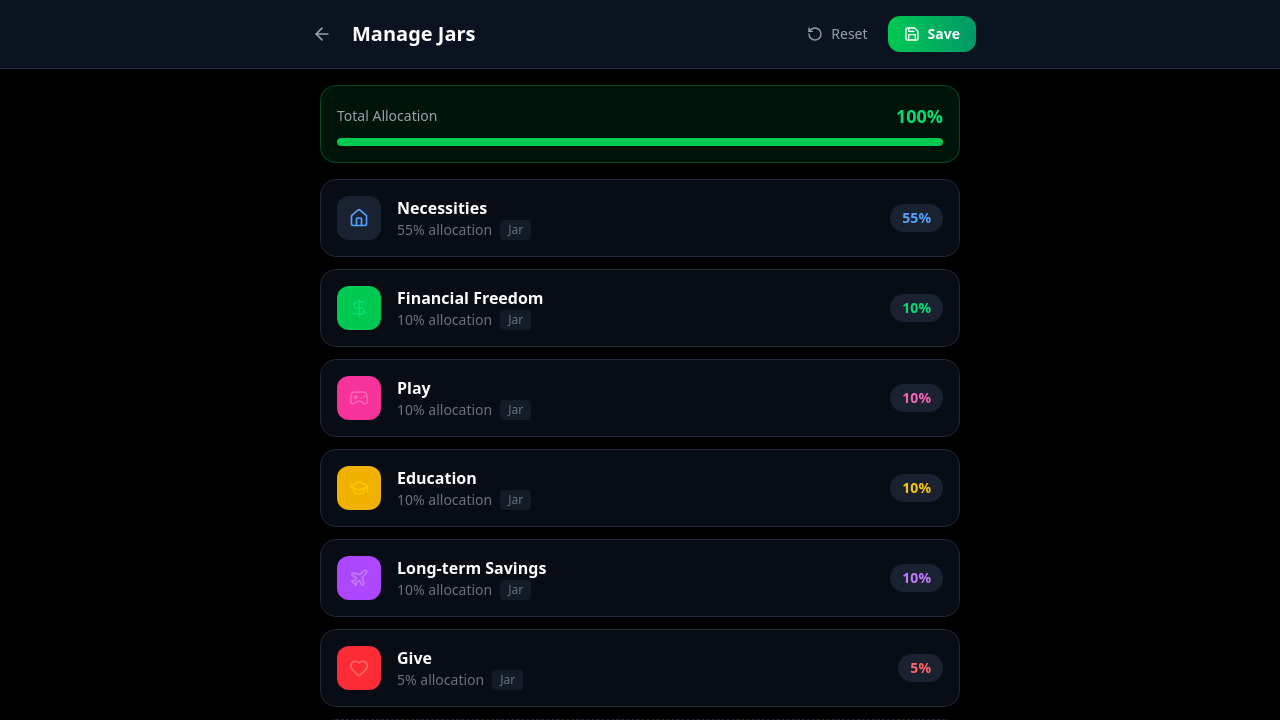
Test case: ManageJars › User Interactions › shows Reset confirmation modal when Reset is clicked
The width and height of the screenshot is (1280, 720).
Click the button "Reset": x=837, y=34 [795, 16, 880, 52]
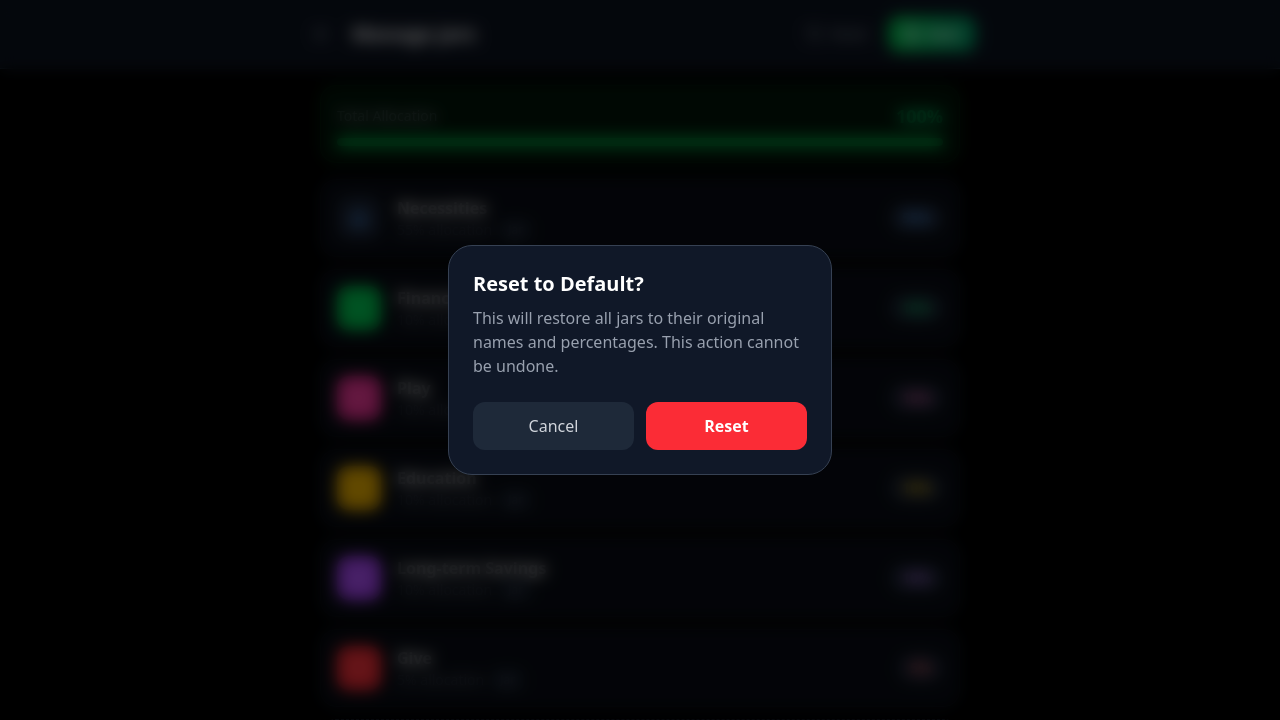
Now the heading "Reset to Default?" is shown, box [473, 270, 644, 297]
